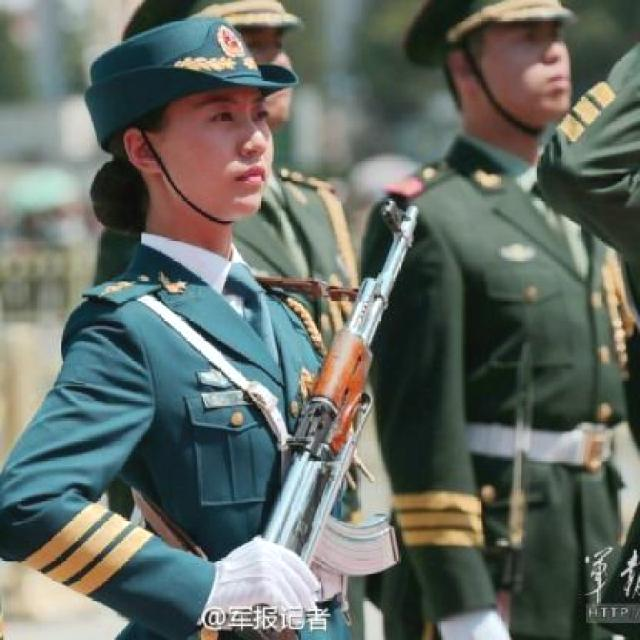face_nomask: (171, 89, 283, 217), (486, 25, 592, 109)
hand_glove: (206, 537, 322, 625)
person: (80, 40, 369, 640), (383, 4, 640, 640)
